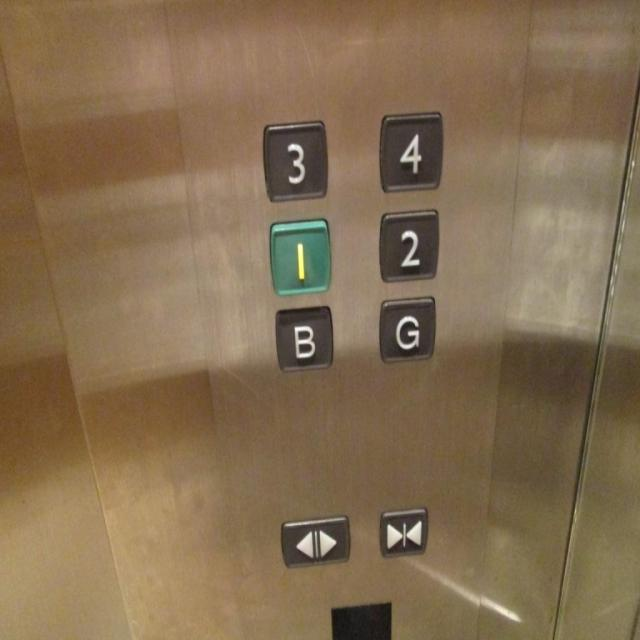1: (267, 215, 333, 296)
2: (376, 203, 442, 284)
3: (262, 121, 327, 202)
4: (377, 106, 448, 195)
B: (273, 304, 335, 370)
G: (376, 292, 439, 362)
close: (378, 505, 430, 561)
open: (279, 510, 353, 568)
